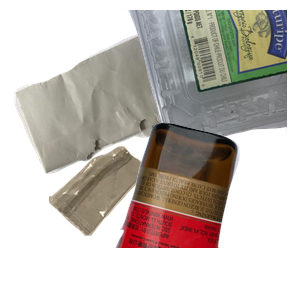glass: (113, 120, 300, 300)
paper: (12, 10, 240, 176)
plastic: (60, 10, 300, 149)
trash: (46, 144, 188, 300)
